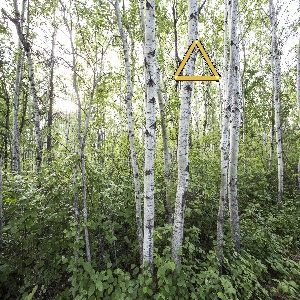triangle: (169, 36, 222, 89)
